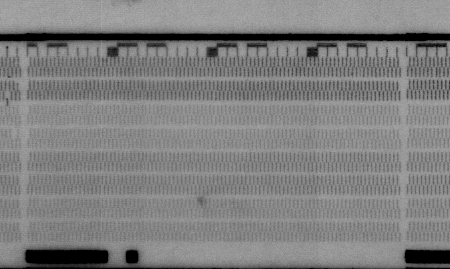Oblique printing: (3, 91, 14, 107)
